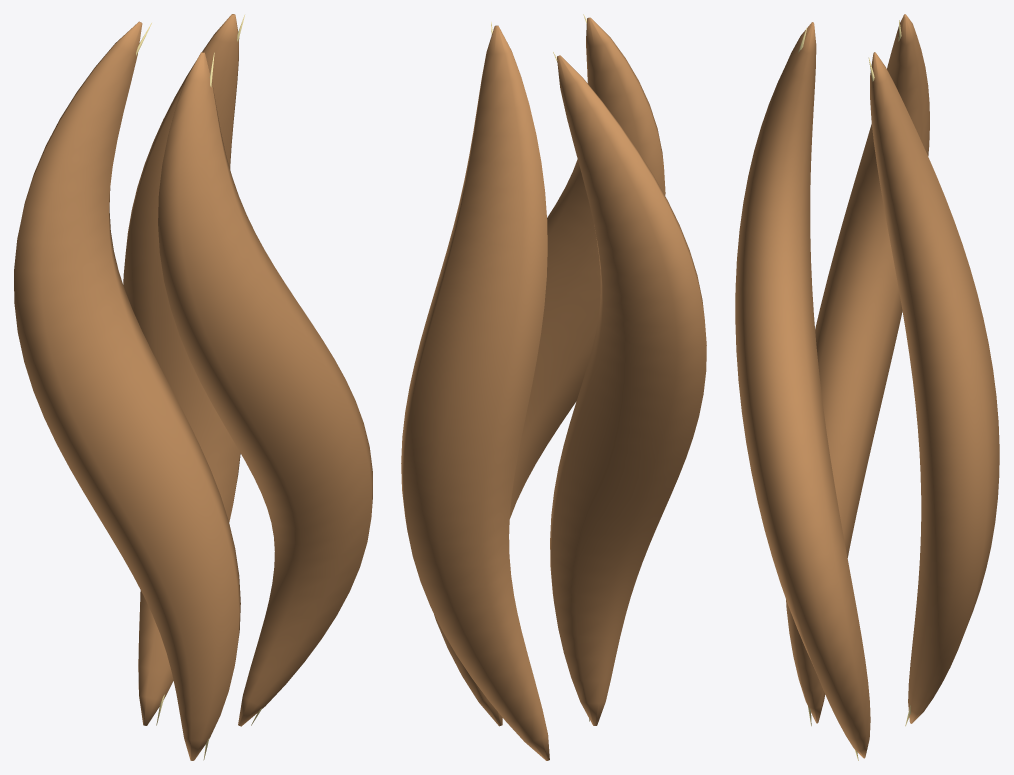
Rendered from sol-shell.glb.
3 renders of one model, left to right at view 1: azimuth 30°, elevation 25°; view 2: azimuth 150°, elevation 25°; view 3: azimuth 270°, elevation 25°, orthographic.
Parts seen in each view (by area): view 1: flame-shell-0; view 2: flame-shell-0; view 3: flame-shell-0.
Part boxes in pixels (x1,y1,x2,y2): flame-shell-0: (14,14,372,760); flame-shell-0: (401,14,706,760); flame-shell-0: (735,14,999,760).
Bounding box in the file's own units: 0.957 × 2.01 × 0.6818.
